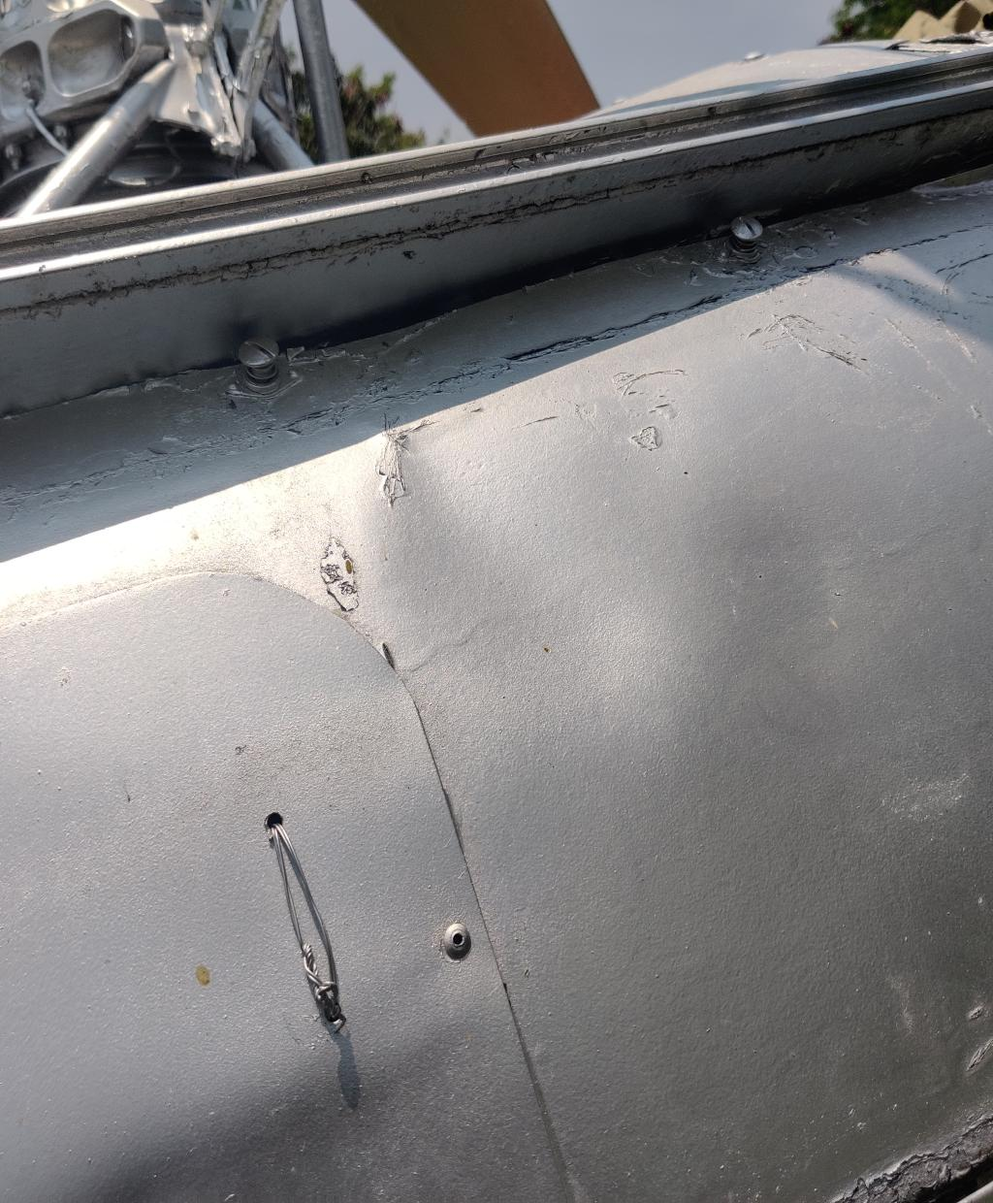dent: (318, 377, 665, 782)
